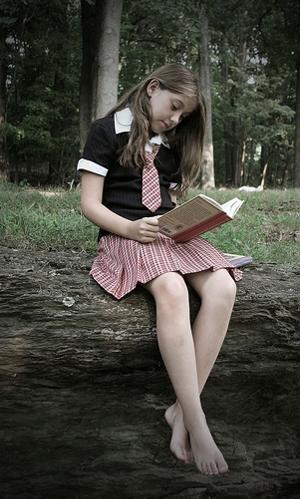person: (78, 58, 239, 476)
